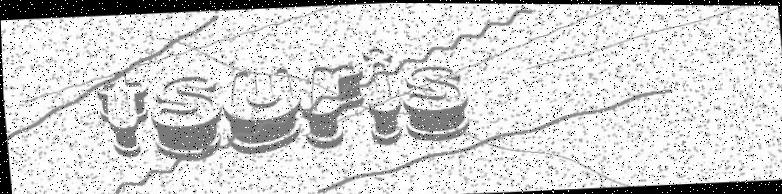i: (362, 47, 403, 147)
r: (300, 63, 368, 150)
s: (148, 75, 225, 163), (400, 65, 470, 141)
t: (97, 71, 151, 158)
u: (219, 68, 303, 156)
